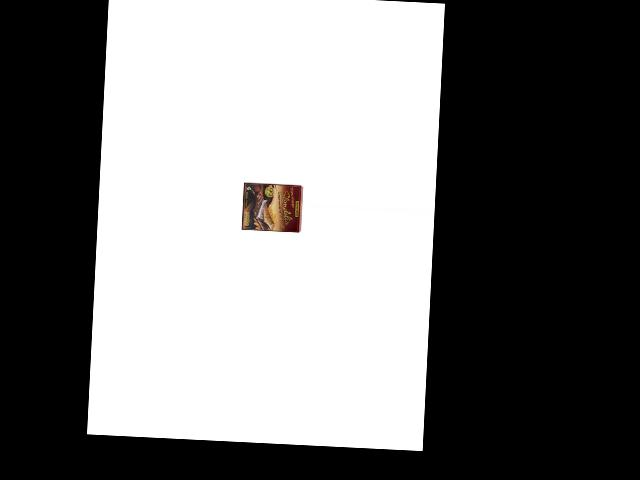chocolate: (241, 182, 303, 232)
